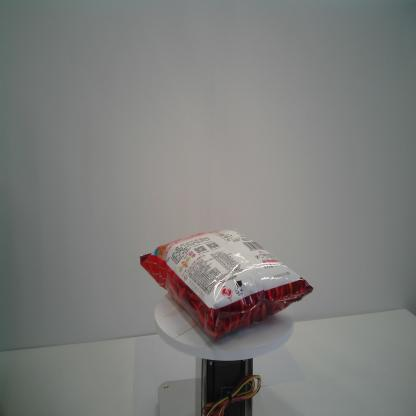Puffed Food: (139, 228, 314, 343)
